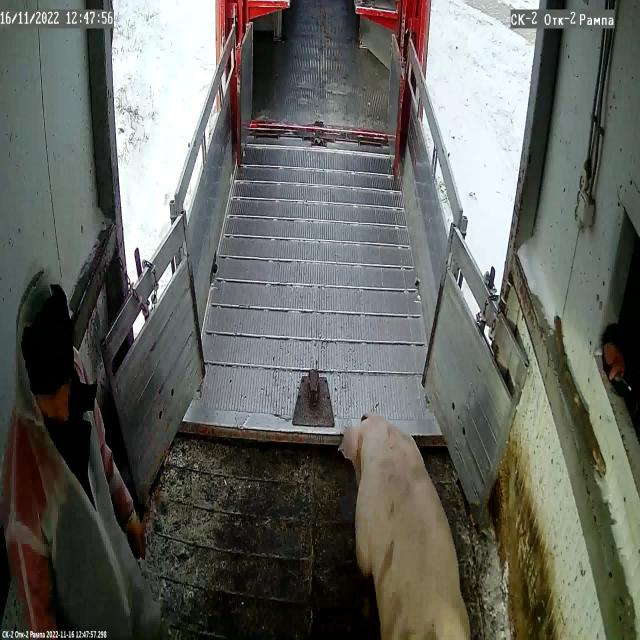pig: (338, 413, 472, 640)
